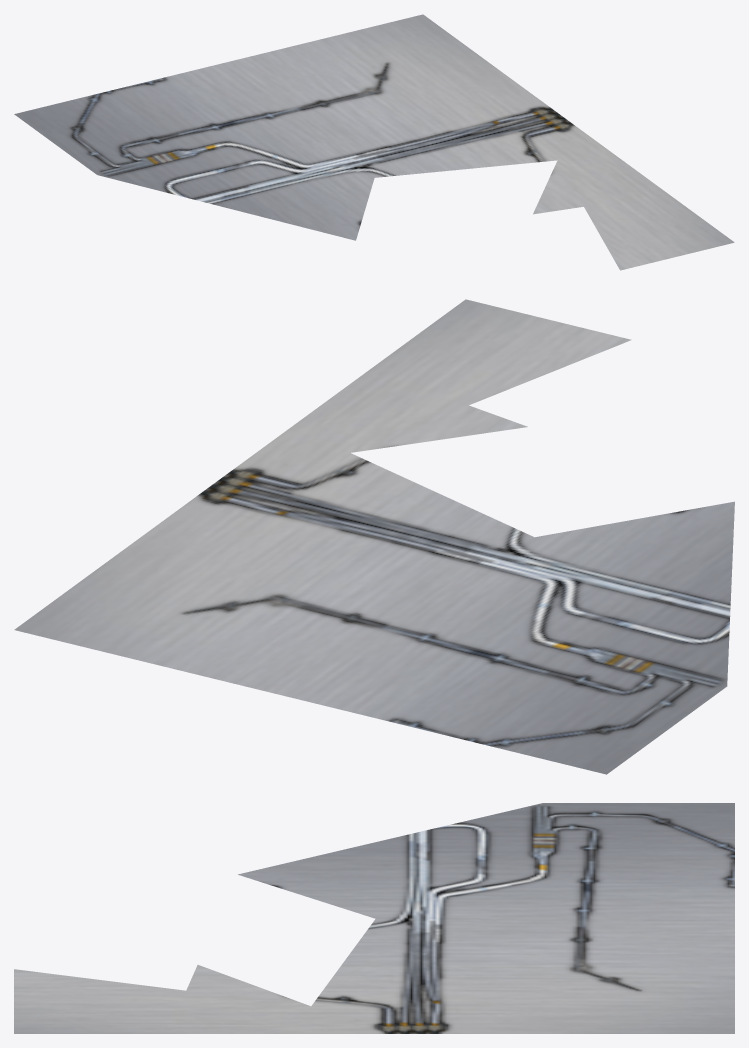
File: panel_1.fbx
3 views of the same model, one above another, from view 1: azimuth 30°, elevation 25°; view 2: azimuth 150°, elevation 25°; view 3: azimuth 270°, elevation 25° (orthographic). The views are drawn at different scales.
Visible parts, largest first — view 1: panel_1; view 2: panel_1; view 3: panel_1.
Boxes of the visible parts, x1=… form: panel_1: x1=14, y1=14, x2=734, y2=270; panel_1: x1=14, y1=299, x2=734, y2=774; panel_1: x1=14, y1=803, x2=734, y2=1033.
Bounding box in the file's own units: 194 × 0 × 256.
